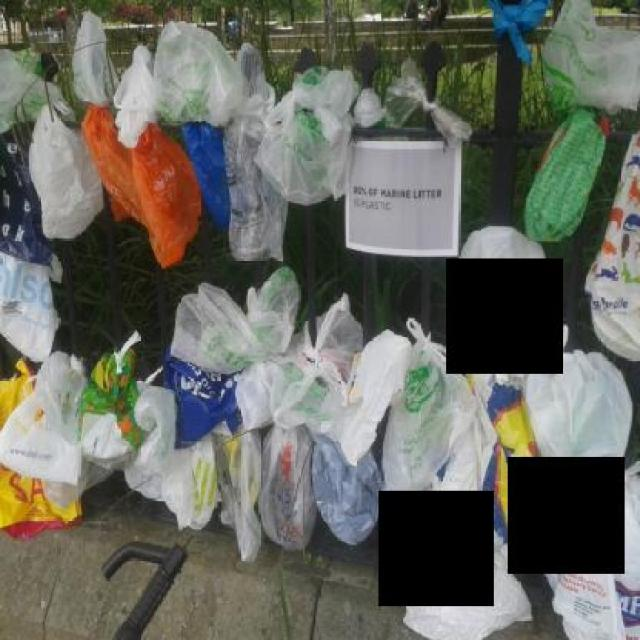plastic bag: (0, 0, 638, 638), (451, 222, 551, 384)
